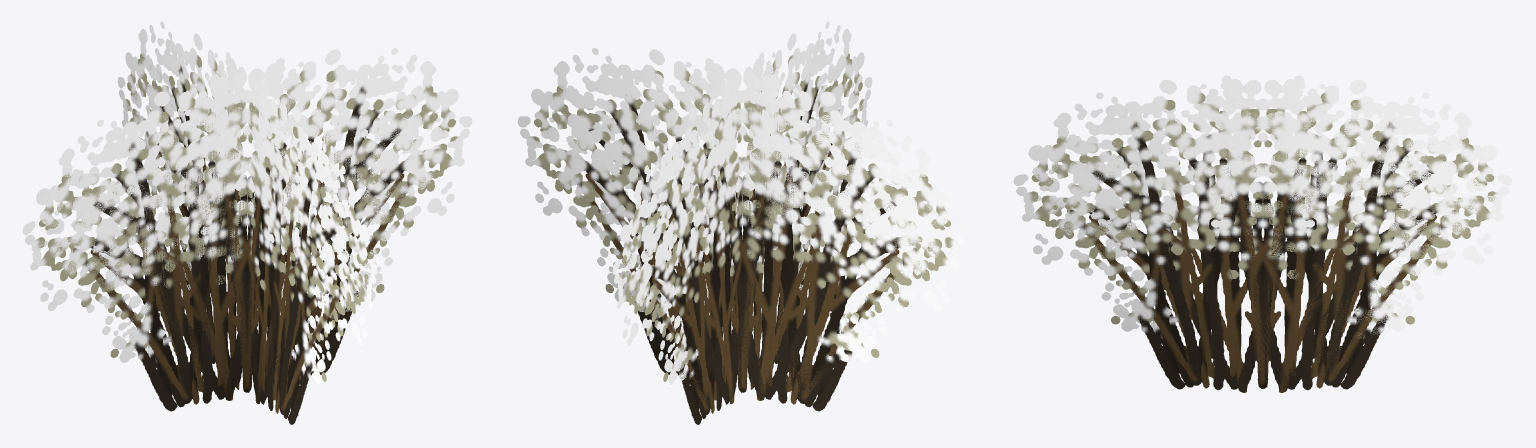
The model's file is painted-bush-022.glb.
The picture shows the model from 3 angles, left to right: view 1: azimuth 30°, elevation 25°; view 2: azimuth 150°, elevation 25°; view 3: azimuth 270°, elevation 25°; orthographic projection. The views are drawn at different scales.
Size of the model in its own units: 10.13 by 7.19 by 10.13.
1 material, 1 textured.
